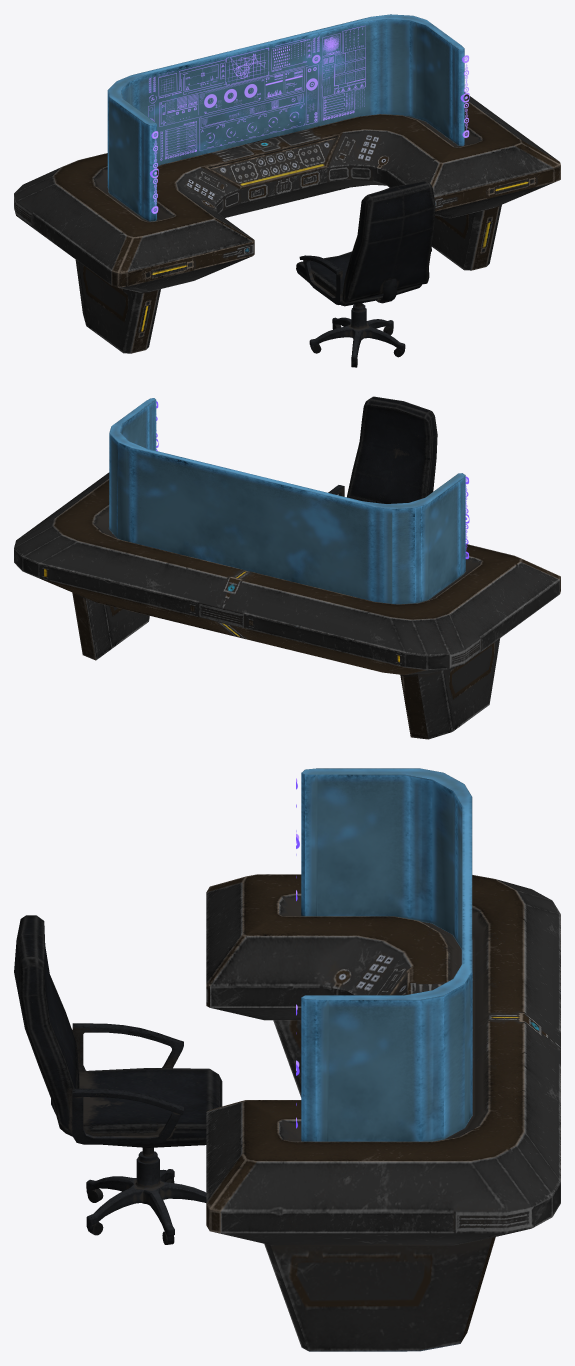
3 views of the same model, one above another, from view 1: azimuth 30°, elevation 25°; view 2: azimuth 150°, elevation 25°; view 3: azimuth 270°, elevation 25° (orthographic). The views are drawn at different scales.
Parts seen in each view (by area): view 1: Object_2, Object_3; view 2: Object_2; view 3: Object_2.
Boxes of the visible parts, x1,y1,x2,y2 form: Object_2: [14, 14, 560, 367]; Object_3: [148, 25, 469, 213]; Object_2: [14, 396, 560, 739]; Object_2: [14, 768, 560, 1351].
Bounding box in the file's own units: 59.86 × 28.5 × 42.3.
2 materials, 2 textured.
